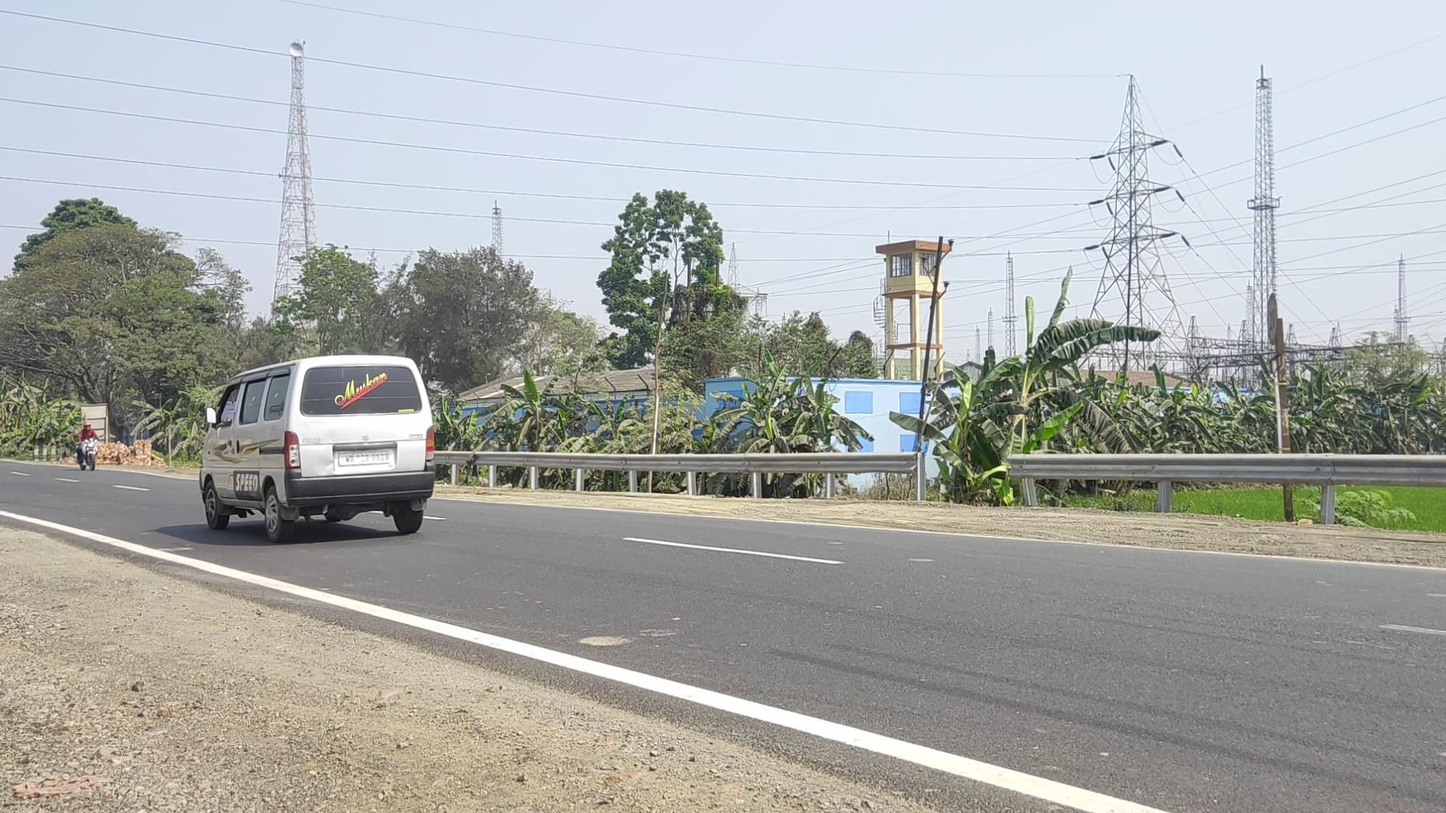bike: (74, 421, 104, 472)
van: (199, 355, 435, 544)
